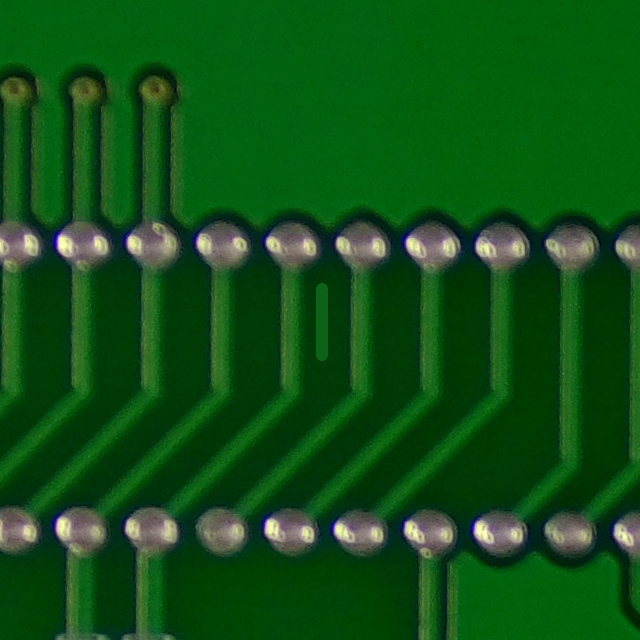spurious_copper: (293, 273, 347, 368)
